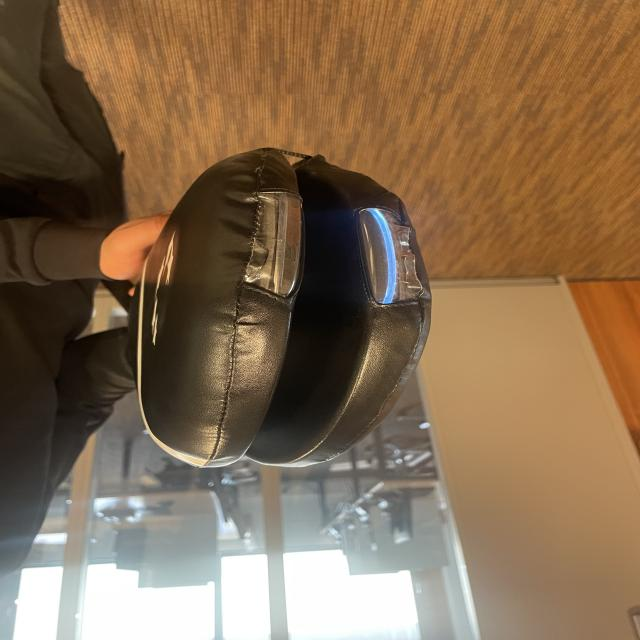paddle: (136, 152, 425, 462)
trigger: (358, 205, 403, 312)
